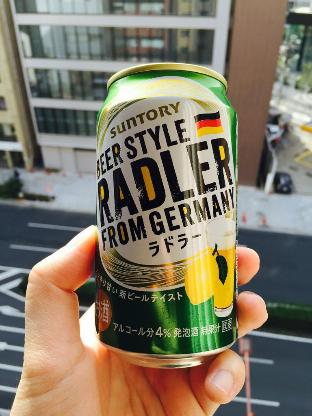Can: (89, 52, 249, 372)
